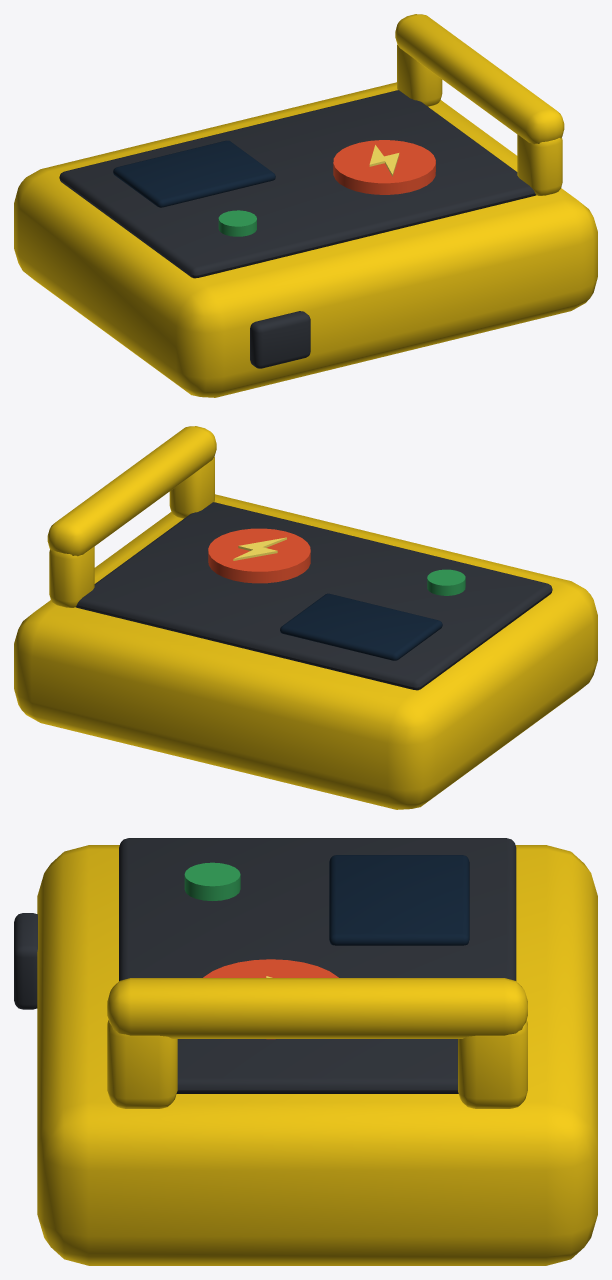
The model's file is aed.glb.
3 renders of one model, top to bottom at view 1: azimuth 30°, elevation 25°; view 2: azimuth 150°, elevation 25°; view 3: azimuth 270°, elevation 25°, orthographic. The views are drawn at different scales.
Parts seen in each view (by area): view 1: aed; view 2: aed; view 3: aed.
Part boxes in pixels (x1,y1,x2,y2): aed: [14, 14, 597, 397]; aed: [14, 426, 597, 809]; aed: [14, 838, 597, 1265].
Size of the model in its own units: 0.3 by 0.13 by 0.25.
